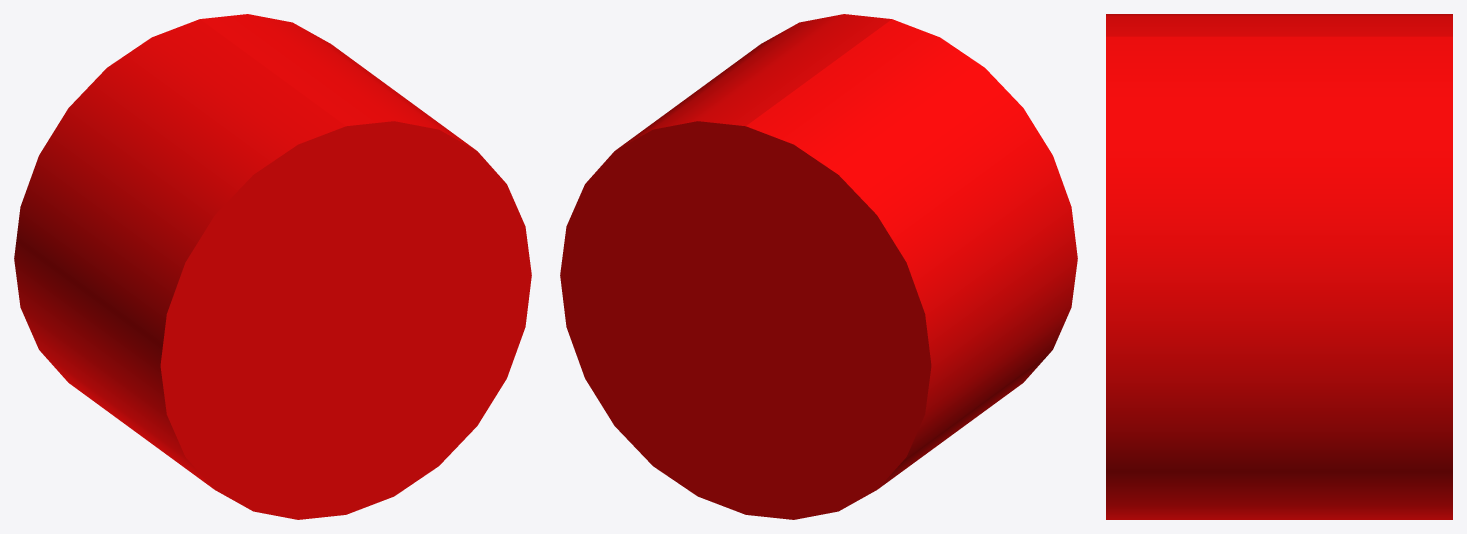
The picture shows the model from 3 angles, left to right: view 1: azimuth 30°, elevation 25°; view 2: azimuth 150°, elevation 25°; view 3: azimuth 270°, elevation 25°; orthographic projection. The views are drawn at different scales.
Visible parts, largest first — view 1: pow_bloc_plane-SKP--_Color_A05_; view 2: pow_bloc_plane-SKP--_Color_A05_; view 3: pow_bloc_plane-SKP--_Color_A05_.
Part boxes in pixels (<box>): pow_bloc_plane-SKP--_Color_A05_: <box>14,14,531,519</box>; pow_bloc_plane-SKP--_Color_A05_: <box>560,14,1077,519</box>; pow_bloc_plane-SKP--_Color_A05_: <box>1106,14,1452,519</box>.
Size of the model in its own units: 0.1402 by 0.1402 by 0.0958.
1 material, 1 textured.
